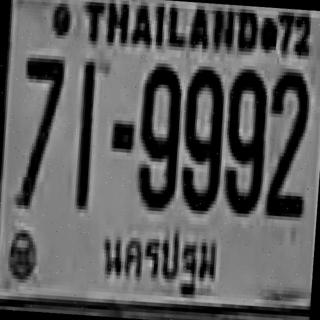N01: (72, 56, 96, 208)
N02: (264, 67, 310, 214)
N07: (14, 54, 63, 207)
N09: (177, 63, 226, 210), (220, 64, 268, 211), (134, 58, 181, 208)
P28: (96, 216, 224, 297)
